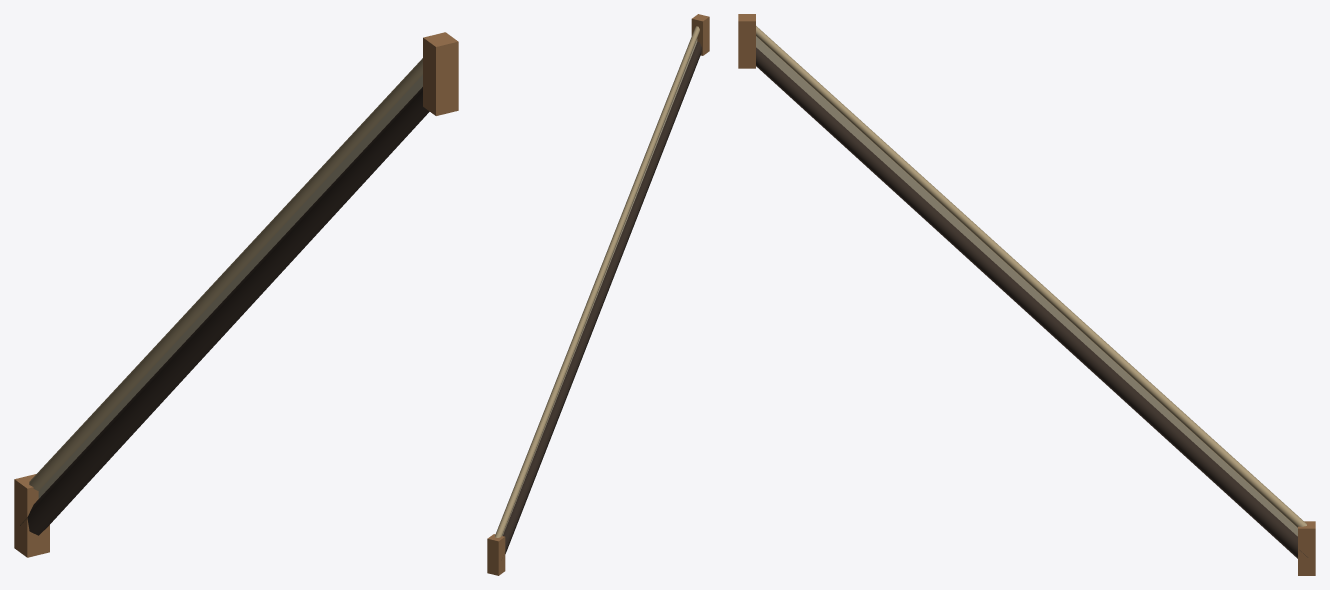
File: Roof_GableEdge_45_Right.glb
3 renders of one model, left to right at view 1: azimuth 30°, elevation 25°; view 2: azimuth 150°, elevation 25°; view 3: azimuth 270°, elevation 25°, orthographic. The views are drawn at different scales.
Parts seen in each view (by area): view 1: _MeshInstance3D_3621, _MeshInstance3D_3622, _MeshInstance3D_3620, _MeshInstance3D_3624, _MeshInstance3D_3623; view 2: _MeshInstance3D_3621, _MeshInstance3D_3622, _MeshInstance3D_3620, _MeshInstance3D_3623, _MeshInstance3D_3624; view 3: _MeshInstance3D_3621, _MeshInstance3D_3622, _MeshInstance3D_3620, _MeshInstance3D_3624, _MeshInstance3D_3623.
Boxes of the visible parts, box(x1,y1,x2,y2) form: _MeshInstance3D_3621: box(20, 87, 429, 535); _MeshInstance3D_3622: box(29, 58, 422, 490); _MeshInstance3D_3620: box(38, 75, 422, 498); _MeshInstance3D_3624: box(423, 32, 458, 115); _MeshInstance3D_3623: box(14, 474, 49, 557); _MeshInstance3D_3621: box(503, 41, 701, 553); _MeshInstance3D_3622: box(495, 26, 699, 537); _MeshInstance3D_3620: box(502, 39, 697, 535); _MeshInstance3D_3623: box(487, 534, 505, 575); _MeshInstance3D_3624: box(691, 14, 709, 55); _MeshInstance3D_3621: box(756, 47, 1307, 558); _MeshInstance3D_3622: box(756, 26, 1306, 527); _MeshInstance3D_3620: box(756, 37, 1297, 536); _MeshInstance3D_3624: box(738, 14, 755, 68); _MeshInstance3D_3623: box(1298, 521, 1315, 575).
Size of the model in its own units: 0.0955 by 3.28 by 3.09.
